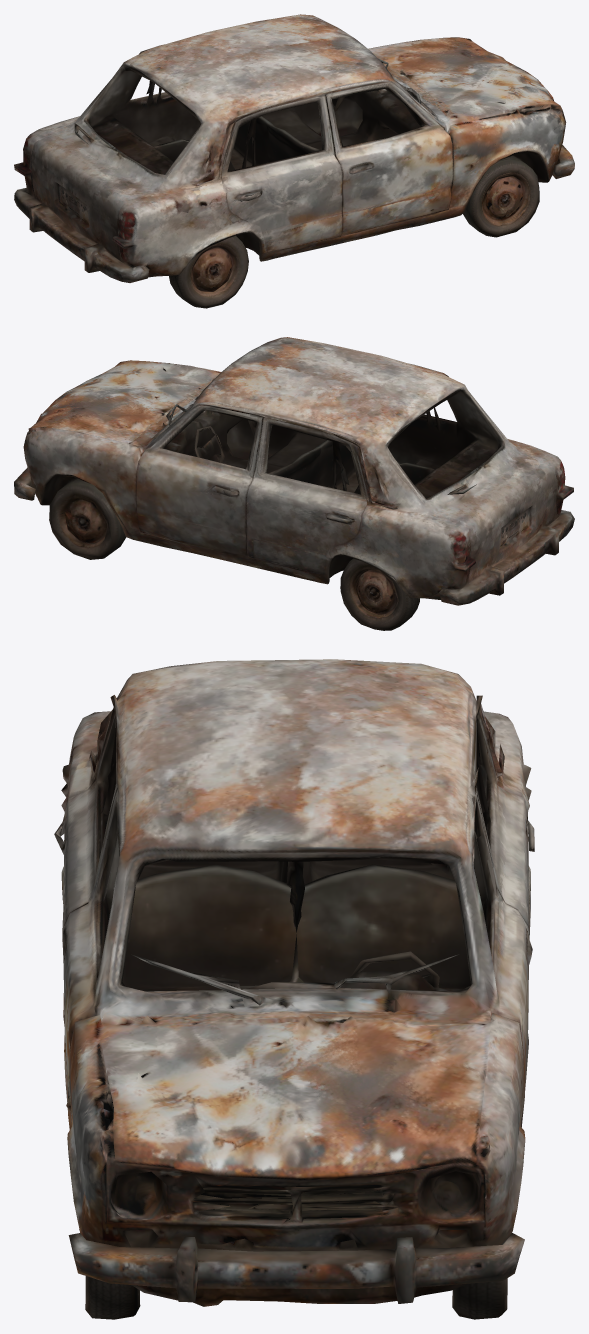
File: car_wreck.glb
3 views of the same model, one above another, from view 1: azimuth 30°, elevation 25°; view 2: azimuth 150°, elevation 25°; view 3: azimuth 270°, elevation 25° (orthographic). The views are drawn at different scales.
Parts seen in each view (by area): view 1: tripo_node_10cb8463-0d35-4dcf-8acf-1c088fb0f804; view 2: tripo_node_10cb8463-0d35-4dcf-8acf-1c088fb0f804; view 3: tripo_node_10cb8463-0d35-4dcf-8acf-1c088fb0f804.
Part boxes in pixels (x1=…): tripo_node_10cb8463-0d35-4dcf-8acf-1c088fb0f804: x1=14, y1=14, x2=574, y2=308; tripo_node_10cb8463-0d35-4dcf-8acf-1c088fb0f804: x1=14, y1=337, x2=574, y2=630; tripo_node_10cb8463-0d35-4dcf-8acf-1c088fb0f804: x1=54, y1=659, x2=534, y2=1319.
Bounding box in the file's own units: 0.981 × 0.3844 × 0.4313.
Materials: 1 (1 with a texture image).
